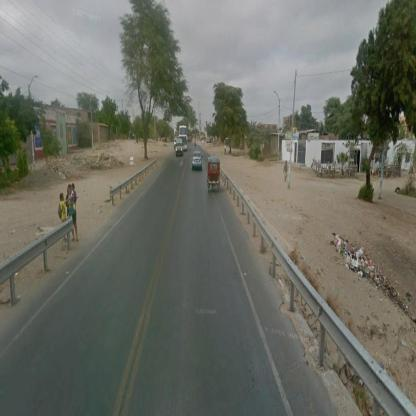Peaton: (67, 182, 79, 242), (60, 194, 69, 242)
Pista: (1, 155, 290, 416)
Vehiculo: (209, 159, 221, 194), (179, 125, 188, 151), (193, 152, 203, 172), (176, 139, 184, 159), (175, 137, 178, 147)
